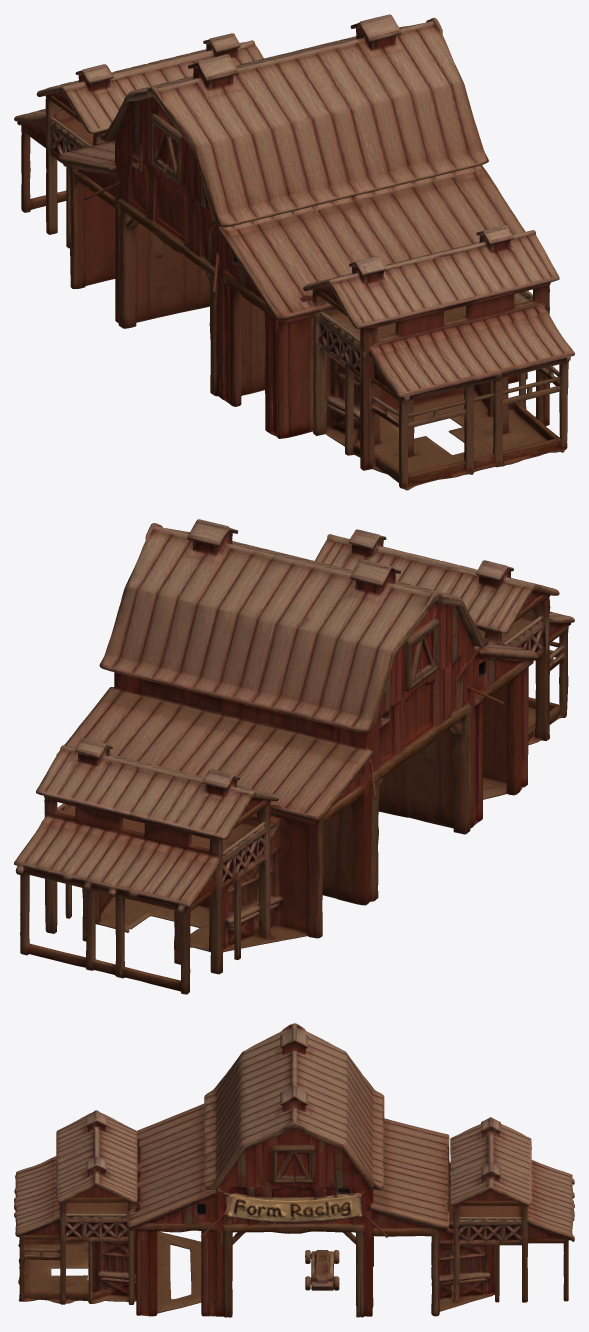
The model's file is farm+racing+barn+3d+model.fbx.
3 renders of one model, top to bottom at view 1: azimuth 30°, elevation 25°; view 2: azimuth 150°, elevation 25°; view 3: azimuth 270°, elevation 25°, orthographic. The views are drawn at different scales.
Visible parts, largest first — view 1: tripo_mesh_764ab583-7847-4301-8273-79f29df951ac; view 2: tripo_mesh_764ab583-7847-4301-8273-79f29df951ac; view 3: tripo_mesh_764ab583-7847-4301-8273-79f29df951ac.
Boxes of the visible parts, x1,y1,x2,y2 form: tripo_mesh_764ab583-7847-4301-8273-79f29df951ac: (14, 14, 574, 490); tripo_mesh_764ab583-7847-4301-8273-79f29df951ac: (14, 519, 574, 994); tripo_mesh_764ab583-7847-4301-8273-79f29df951ac: (14, 1023, 574, 1317).
Size of the model in its own units: 0.4317 by 0.4201 by 0.9998.
Materials: 1 (1 with a texture image).
